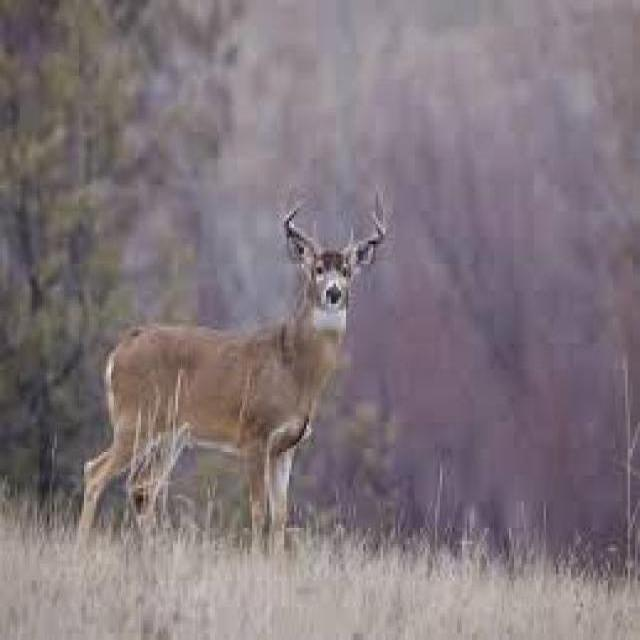deer: (78, 189, 387, 552)
